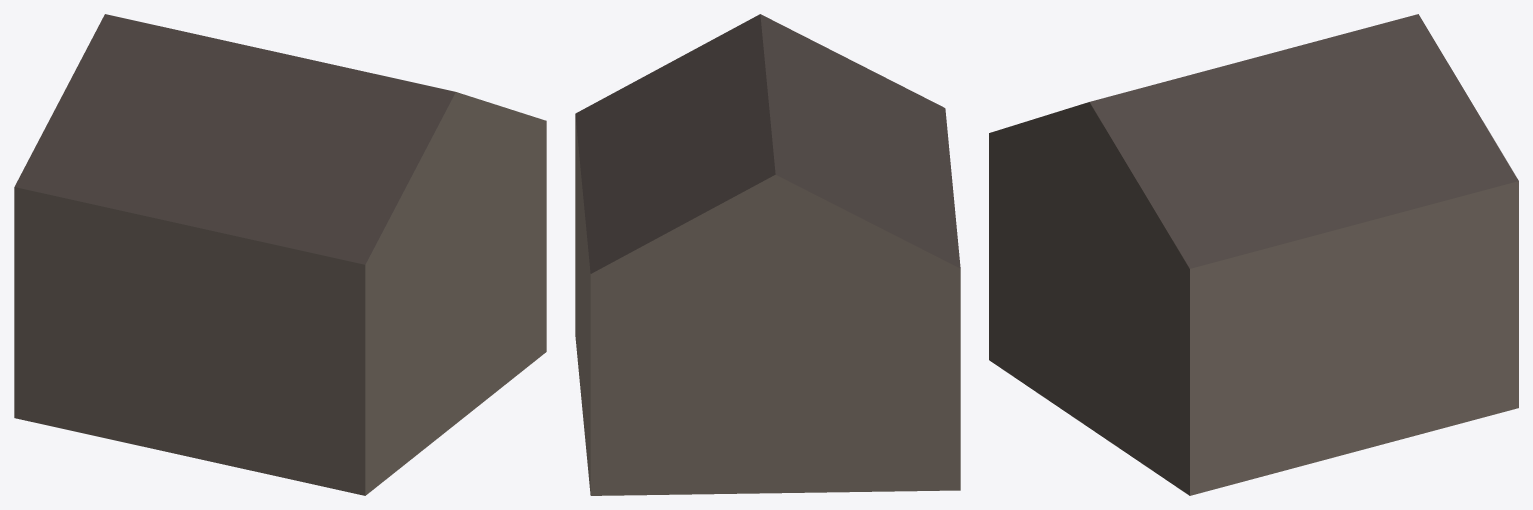
3 renders of one model, left to right at view 1: azimuth 30°, elevation 25°; view 2: azimuth 150°, elevation 25°; view 3: azimuth 270°, elevation 25°, orthographic. The views are drawn at different scales.
Visible parts, largest first — view 1: HP-w859424182; view 2: HP-w859424182; view 3: HP-w859424182.
Part boxes in pixels (x1,y1,x2,y2): HP-w859424182: [14, 14, 546, 495]; HP-w859424182: [575, 14, 960, 495]; HP-w859424182: [989, 14, 1518, 495].
Bounding box in the file's own units: 12.68 × 8.62 × 12.69.
